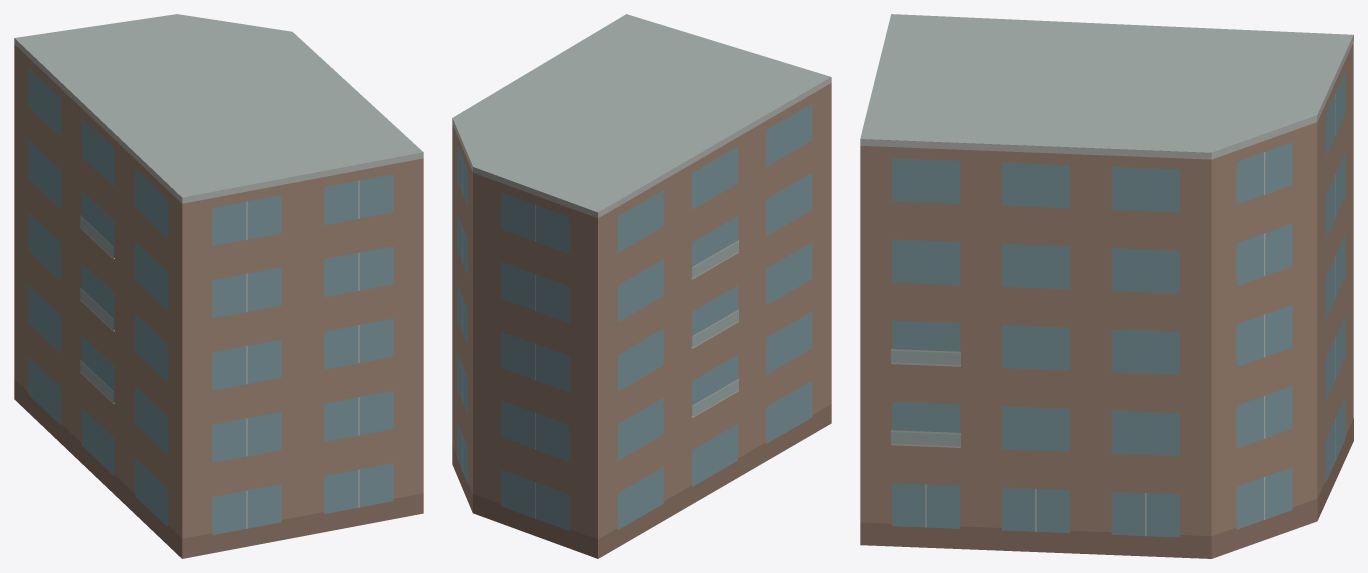
Rendered from survey-upis-32636884.glb.
3 renders of one model, left to right at view 1: azimuth 30°, elevation 25°; view 2: azimuth 150°, elevation 25°; view 3: azimuth 270°, elevation 25°, orthographic. The views are drawn at different scales.
Visible parts, largest first — view 1: survey-upis-32636884.tmp; view 2: survey-upis-32636884.tmp; view 3: survey-upis-32636884.tmp.
Boxes of the visible parts, x1,y1,x2,y2 form: survey-upis-32636884.tmp: [14, 14, 423, 558]; survey-upis-32636884.tmp: [452, 14, 831, 558]; survey-upis-32636884.tmp: [860, 14, 1353, 558].
Bounding box in the file's own units: 10.63 × 14.5 × 15.98.
